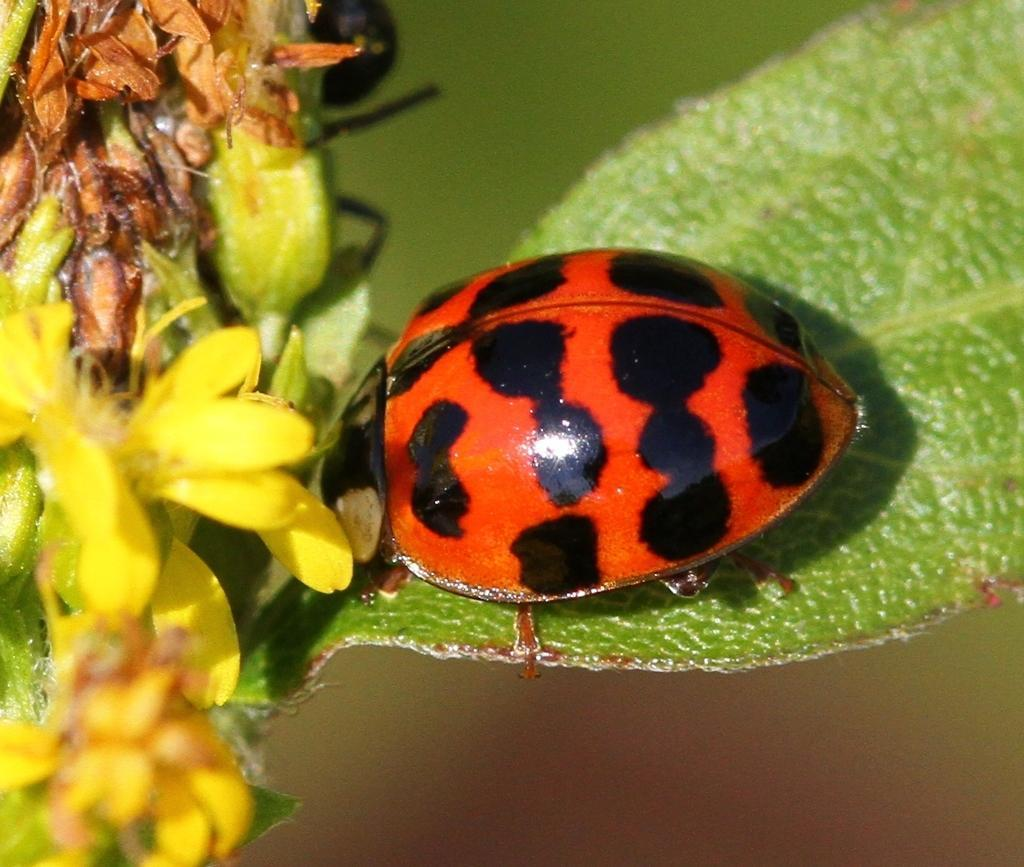ladybug: (319, 244, 874, 679)
